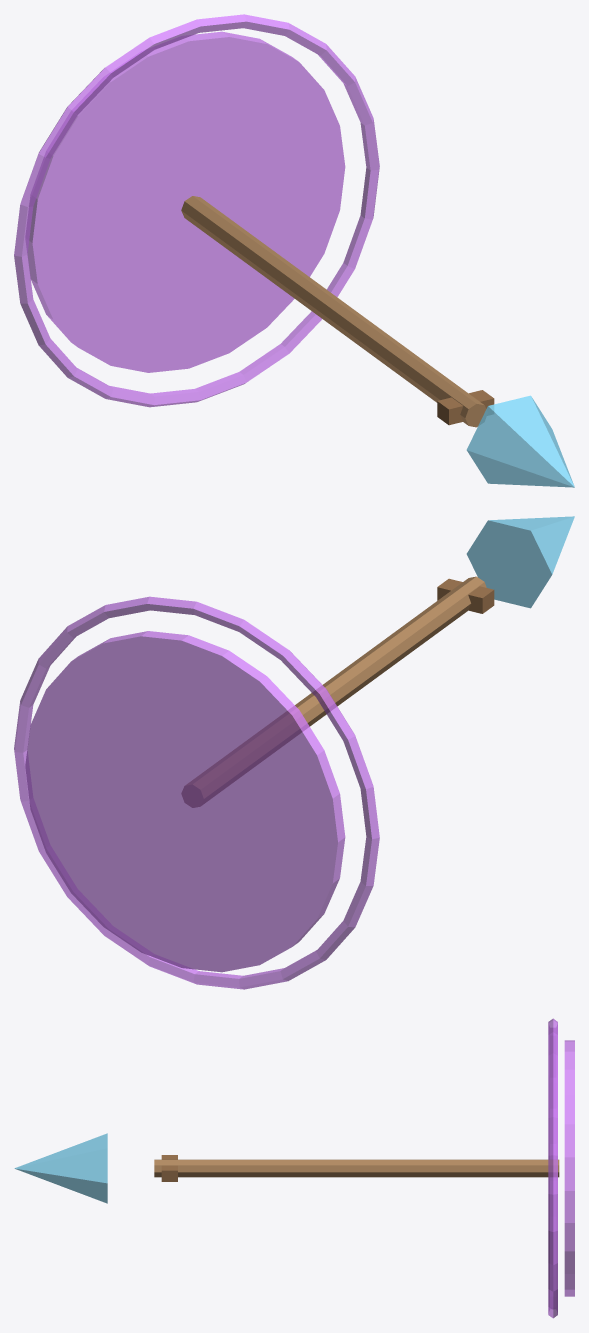
Rendered from weapon_pickup_crystal_lance_epic.glb.
The picture shows the model from 3 angles, top to bottom: view 1: azimuth 30°, elevation 25°; view 2: azimuth 150°, elevation 25°; view 3: azimuth 270°, elevation 25°; orthographic projection. The views are drawn at different scales.
Parts seen in each view (by area): view 1: rarity_base_disc, rarity_orbit_ring, shaft, spear_tip, binding; view 2: rarity_base_disc, rarity_orbit_ring, shaft, spear_tip, binding; view 3: shaft, spear_tip, rarity_orbit_ring, rarity_base_disc.
Boxes of the visible parts, x1,y1,x2,y2 form: rarity_base_disc: (26,31,345,372); rarity_orbit_ring: (14,14,379,407); shaft: (181,196,486,427); spear_tip: (466,395,574,487); binding: (437,390,494,425); rarity_base_disc: (25,631,345,972); rarity_orbit_ring: (14,596,379,989); shaft: (182,576,486,807); spear_tip: (466,516,574,608); binding: (437,578,494,613); shaft: (154,1159,559,1177); spear_tip: (14,1133,107,1203); rarity_orbit_ring: (548,1018,557,1318); rarity_base_disc: (564,1040,574,1296).
Size of the model in its own units: 1.45 by 1.45 by 2.7.
